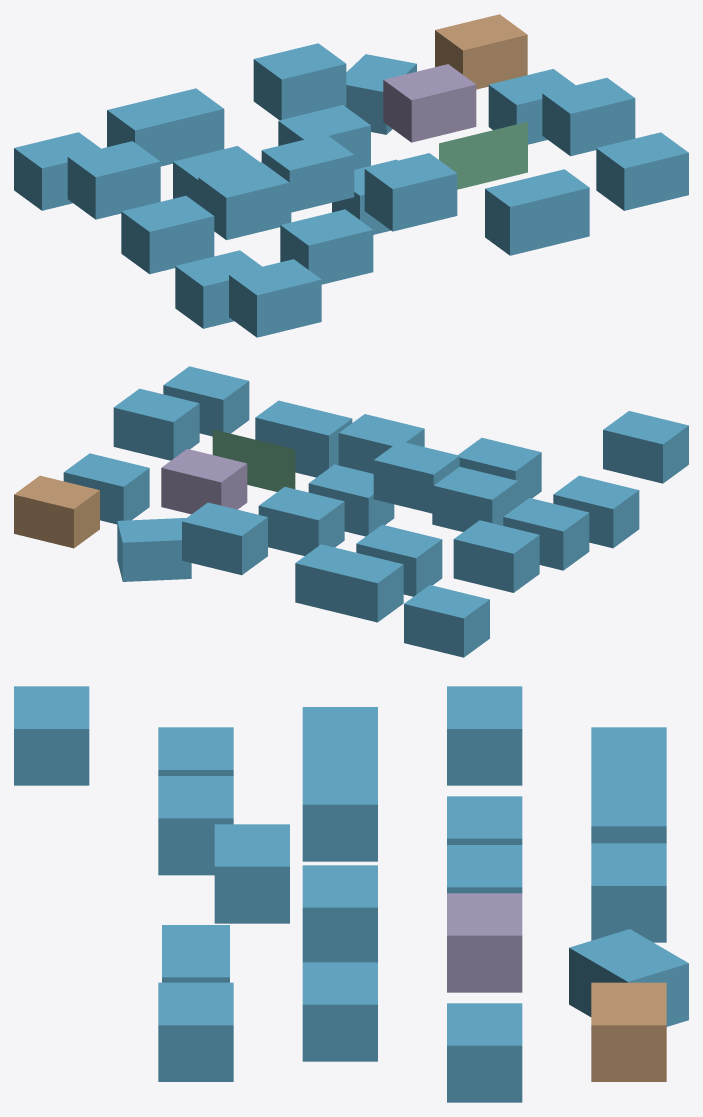
The picture shows the model from 3 angles, top to bottom: view 1: azimuth 30°, elevation 25°; view 2: azimuth 150°, elevation 25°; view 3: azimuth 270°, elevation 25°; orthographic projection. The views are drawn at different scales.
Parts seen in each view (by area): view 1: n11, n18, n1, n8, n17, n20, n19, n10, n14, n5, n2, n16 (+9 smaller); view 2: n11, n1, n5, n2, n0, n20, n4, n14, n8, n18, n7, n3 (+9 smaller); view 3: n11, n4, n5, n8, n9, n14, n17, n19, n20, n12, n2, n16 (+8 smaller).
Part boxes in pixels (<box>): n11: <box>198,134,354,240</box>; n18: <box>485,169,589,255</box>; n1: <box>107,88,224,166</box>; n8: <box>383,64,476,142</box>; n17: <box>364,153,457,231</box>; n20: <box>229,259,321,337</box>; n19: <box>596,132,688,210</box>; n10: <box>121,195,214,274</box>; n14: <box>542,78,635,156</box>; n5: <box>67,141,160,219</box>; n2: <box>253,43,346,120</box>; n16: <box>280,209,373,284</box>; n11: <box>373,441,518,531</box>; n1: <box>295,544,403,622</box>; n5: <box>453,520,539,592</box>; n2: <box>182,502,267,575</box>; n0: <box>404,585,489,657</box>; n20: <box>603,411,688,483</box>; n4: <box>14,475,99,548</box>; n14: <box>113,388,199,460</box>; n8: <box>161,449,247,514</box>; n18: <box>255,400,352,477</box>; n7: <box>258,487,344,555</box>; n3: <box>117,518,191,581</box>; n11: <box>302,737,377,861</box>; n4: <box>591,982,666,1081</box>; n5: <box>447,686,522,785</box>; n8: <box>447,893,522,992</box>; n9: <box>447,1003,522,1102</box>; n14: <box>302,962,377,1061</box>; n17: <box>214,824,289,923</box>; n19: <box>158,982,233,1081</box>; n20: <box>14,686,89,785</box>; n12: <box>302,865,377,962</box>; n2: <box>591,843,666,942</box>; n16: <box>158,776,233,875</box>.
Bounding box in the file's own units: 0.6 × 0.1038 × 0.5378.
